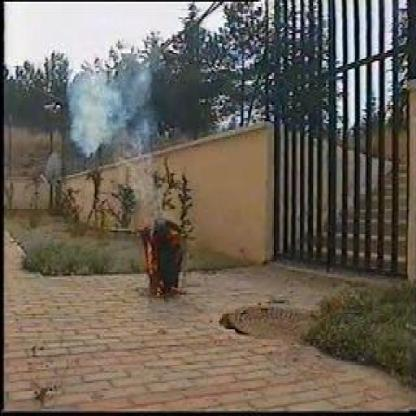-: (67, 66, 149, 158)
foggia-v2-map80-epoch100 - v1 4323: (145, 237, 159, 278)
